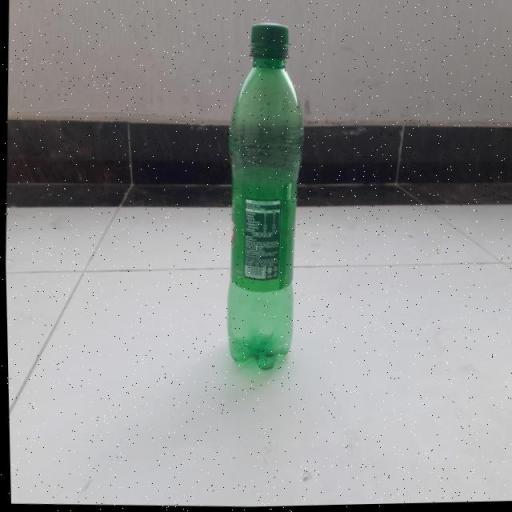plastic: (220, 20, 312, 376)
